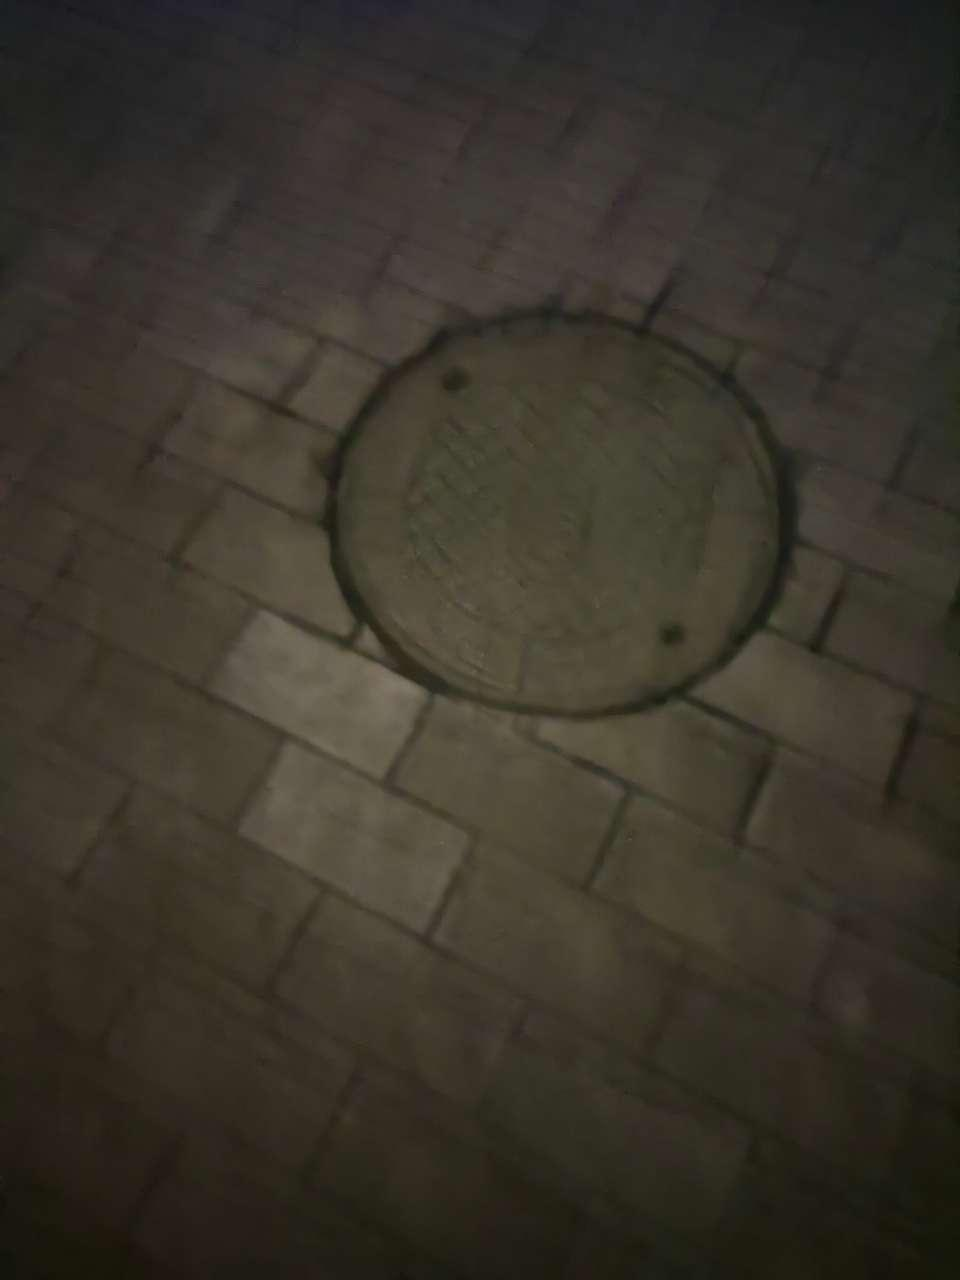wellcover: (324, 296, 795, 727)
